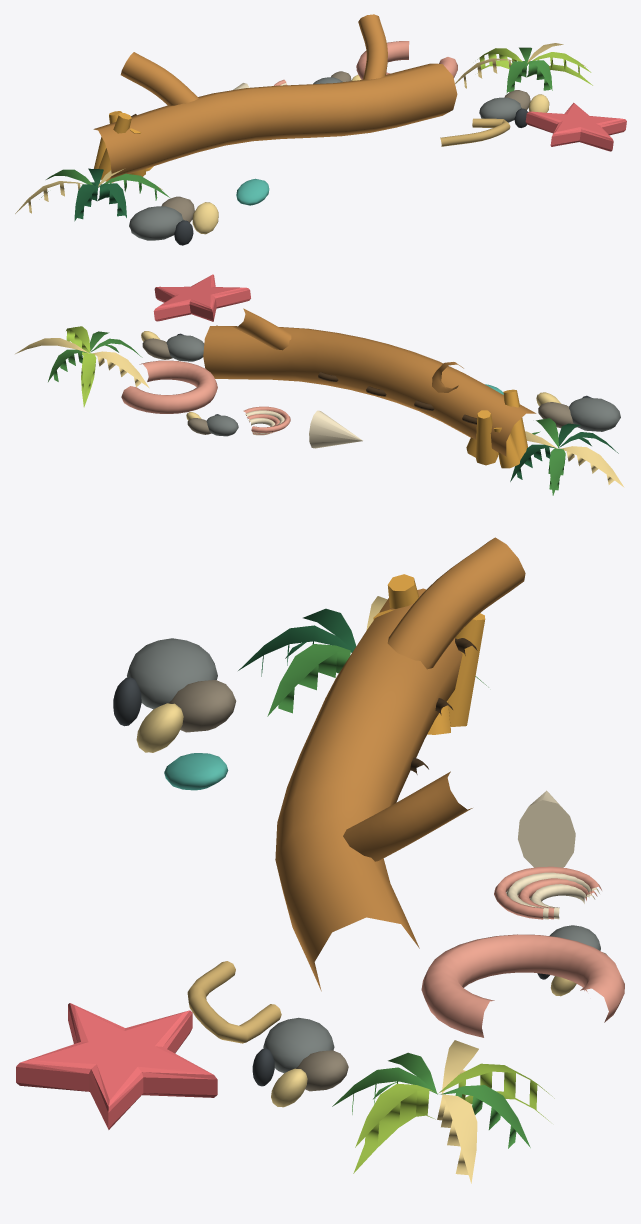
File: terrain-beach.glb
3 views of the same model, one above another, from view 1: azimuth 30°, elevation 25°; view 2: azimuth 150°, elevation 25°; view 3: azimuth 270°, elevation 25° (orthographic). The views are drawn at different scales.
Parts seen in each view (by area): view 1: BeachDecor_RaftWoodLight_0, BeachDecor_CoralPink_8, BeachDecor_WeatheredRock_2, BeachDecor_SunlitSand_4, BeachDecor_IslandGrass_11, BeachDecor_IslandGrassDark_10, BeachDecor_YoungLeaf_12, BeachDecor_RopeFiber_13, BeachDecor_CoralGold_9, BeachDecor_RockStrataWarm_3, BeachDecor_ShellRose_6, BeachDecor_SeaGlass_14 (+1 smaller); view 2: BeachDecor_RaftWoodLight_0, BeachDecor_ShellRose_6, BeachDecor_WeatheredRock_2, BeachDecor_CoralPink_8, BeachDecor_SunlitSand_4, BeachDecor_CoralGold_9, BeachDecor_IslandGrass_11, BeachDecor_ShellIvory_7, BeachDecor_RockStrataWarm_3, BeachDecor_IslandGrassDark_10, BeachDecor_YoungLeaf_12, BeachDecor_BarkGroove_1; view 3: BeachDecor_RaftWoodLight_0, BeachDecor_CoralPink_8, BeachDecor_ShellRose_6, BeachDecor_WeatheredRock_2, BeachDecor_SunlitSand_4, BeachDecor_IslandGrass_11, BeachDecor_ShellIvory_7, BeachDecor_YoungLeaf_12, BeachDecor_RockStrataWarm_3, BeachDecor_CoralGold_9, BeachDecor_RopeFiber_13, BeachDecor_IslandGrassDark_10 (+2 smaller).
Part boxes in pixels (box(x1,y1,x2,y2)): BeachDecor_RaftWoodLight_0: box(93, 14, 457, 179); BeachDecor_CoralPink_8: box(525, 102, 626, 151); BeachDecor_WeatheredRock_2: box(129, 77, 521, 240); BeachDecor_SunlitSand_4: box(15, 43, 585, 234); BeachDecor_IslandGrass_11: box(41, 47, 552, 200); BeachDecor_IslandGrassDark_10: box(74, 168, 126, 221); BeachDecor_YoungLeaf_12: box(477, 48, 592, 85); BeachDecor_RopeFiber_13: box(440, 118, 510, 146); BeachDecor_CoralGold_9: box(94, 111, 153, 182); BeachDecor_RockStrataWarm_3: box(161, 71, 530, 222); BeachDecor_ShellRose_6: box(274, 41, 457, 85); BeachDecor_SeaGlass_14: box(236, 178, 269, 205); BeachDecor_RaftWoodLight_0: box(203, 308, 536, 456); BeachDecor_ShellRose_6: box(121, 360, 290, 434); BeachDecor_WeatheredRock_2: box(166, 335, 620, 436); BeachDecor_CoralPink_8: box(153, 274, 250, 321); BeachDecor_SunlitSand_4: box(15, 331, 624, 487); BeachDecor_CoralGold_9: box(466, 389, 527, 468); BeachDecor_IslandGrass_11: box(48, 331, 565, 495); BeachDecor_ShellIvory_7: box(245, 410, 362, 448); BeachDecor_RockStrataWarm_3: box(142, 338, 576, 434); BeachDecor_IslandGrassDark_10: box(510, 423, 618, 481); BeachDecor_YoungLeaf_12: box(66, 326, 96, 407); BeachDecor_BarkGroove_1: box(318, 372, 477, 424); BeachDecor_RaftWoodLight_0: box(275, 537, 525, 991); BeachDecor_CoralPink_8: box(16, 1003, 217, 1129); BeachDecor_ShellRose_6: box(421, 866, 624, 1037); BeachDecor_WeatheredRock_2: box(127, 638, 600, 1073); BeachDecor_SunlitSand_4: box(136, 596, 576, 1183); BeachDecor_IslandGrass_11: box(267, 644, 530, 1148); BeachDecor_ShellIvory_7: box(506, 790, 599, 919); BeachDecor_YoungLeaf_12: box(353, 1063, 554, 1173); BeachDecor_RockStrataWarm_3: box(168, 680, 607, 1091); BeachDecor_CoralGold_9: box(373, 574, 485, 734); BeachDecor_RopeFiber_13: box(187, 961, 281, 1043); BeachDecor_IslandGrassDark_10: box(238, 608, 356, 676).
Bounding box in the file's own units: 1.75 × 0.3539 × 0.7819.
